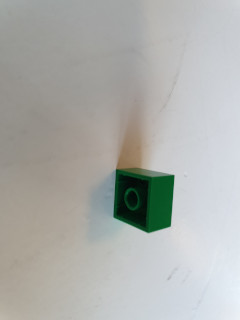2x2 green: (112, 167, 176, 234)
